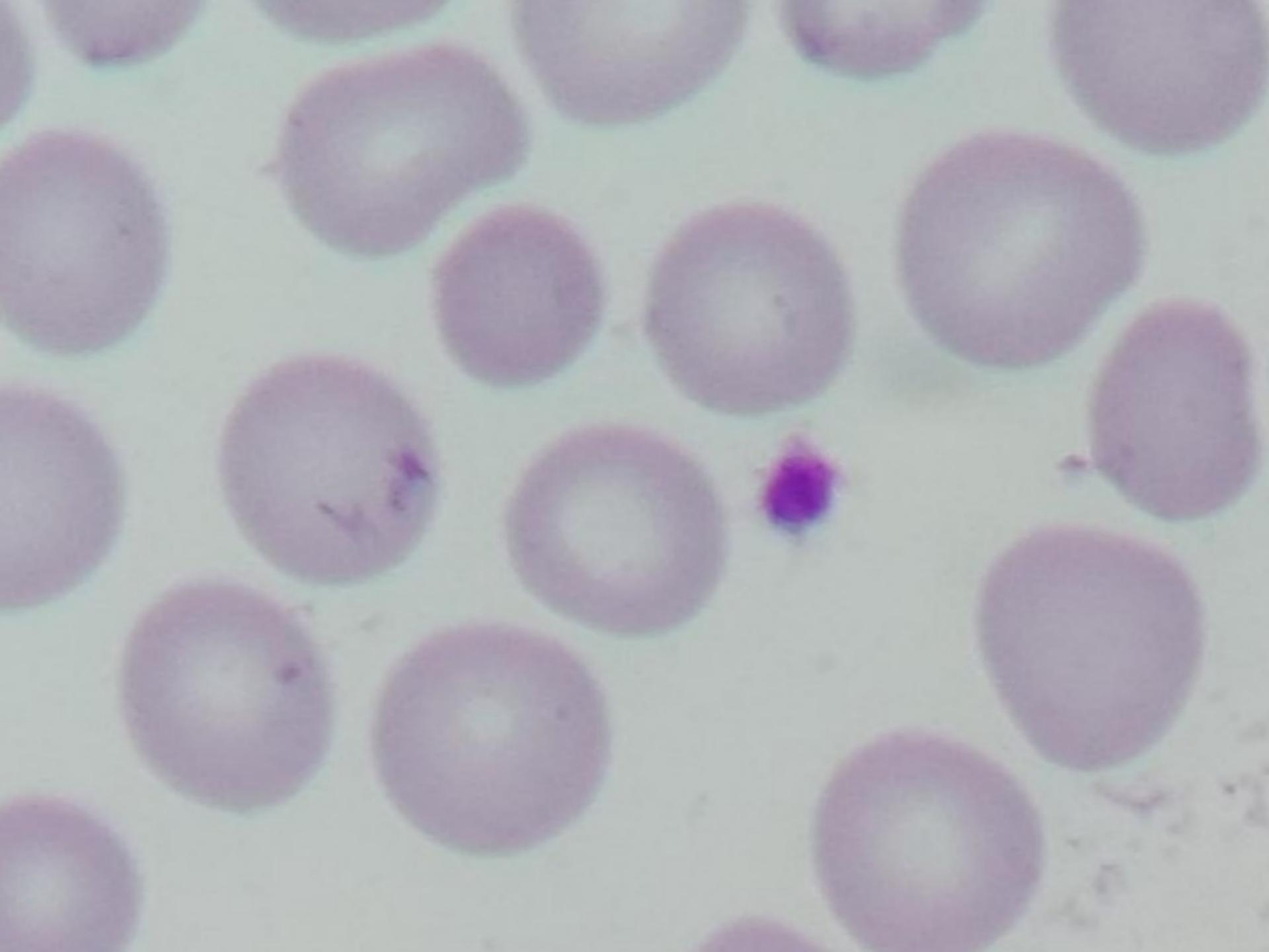Uninfected: (904, 134, 1141, 373), (370, 624, 611, 858), (276, 42, 532, 260), (977, 531, 1203, 769), (818, 739, 1050, 952), (225, 357, 442, 582), (122, 580, 331, 812), (509, 425, 732, 632), (649, 200, 851, 418), (0, 134, 162, 355), (1094, 305, 1256, 522), (1054, 0, 1269, 154), (525, 0, 754, 133), (443, 208, 602, 388), (0, 385, 116, 608)
